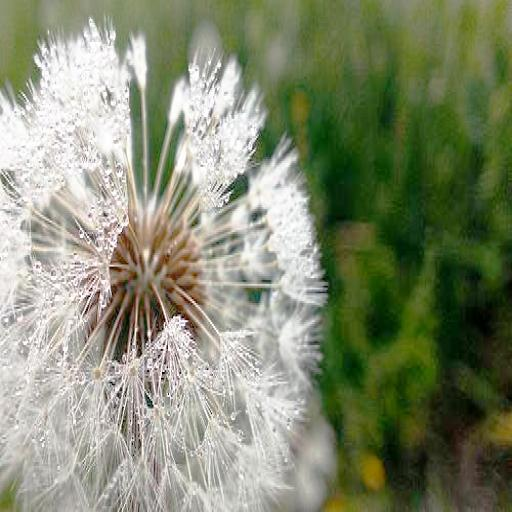dandelion: (0, 0, 329, 512)
